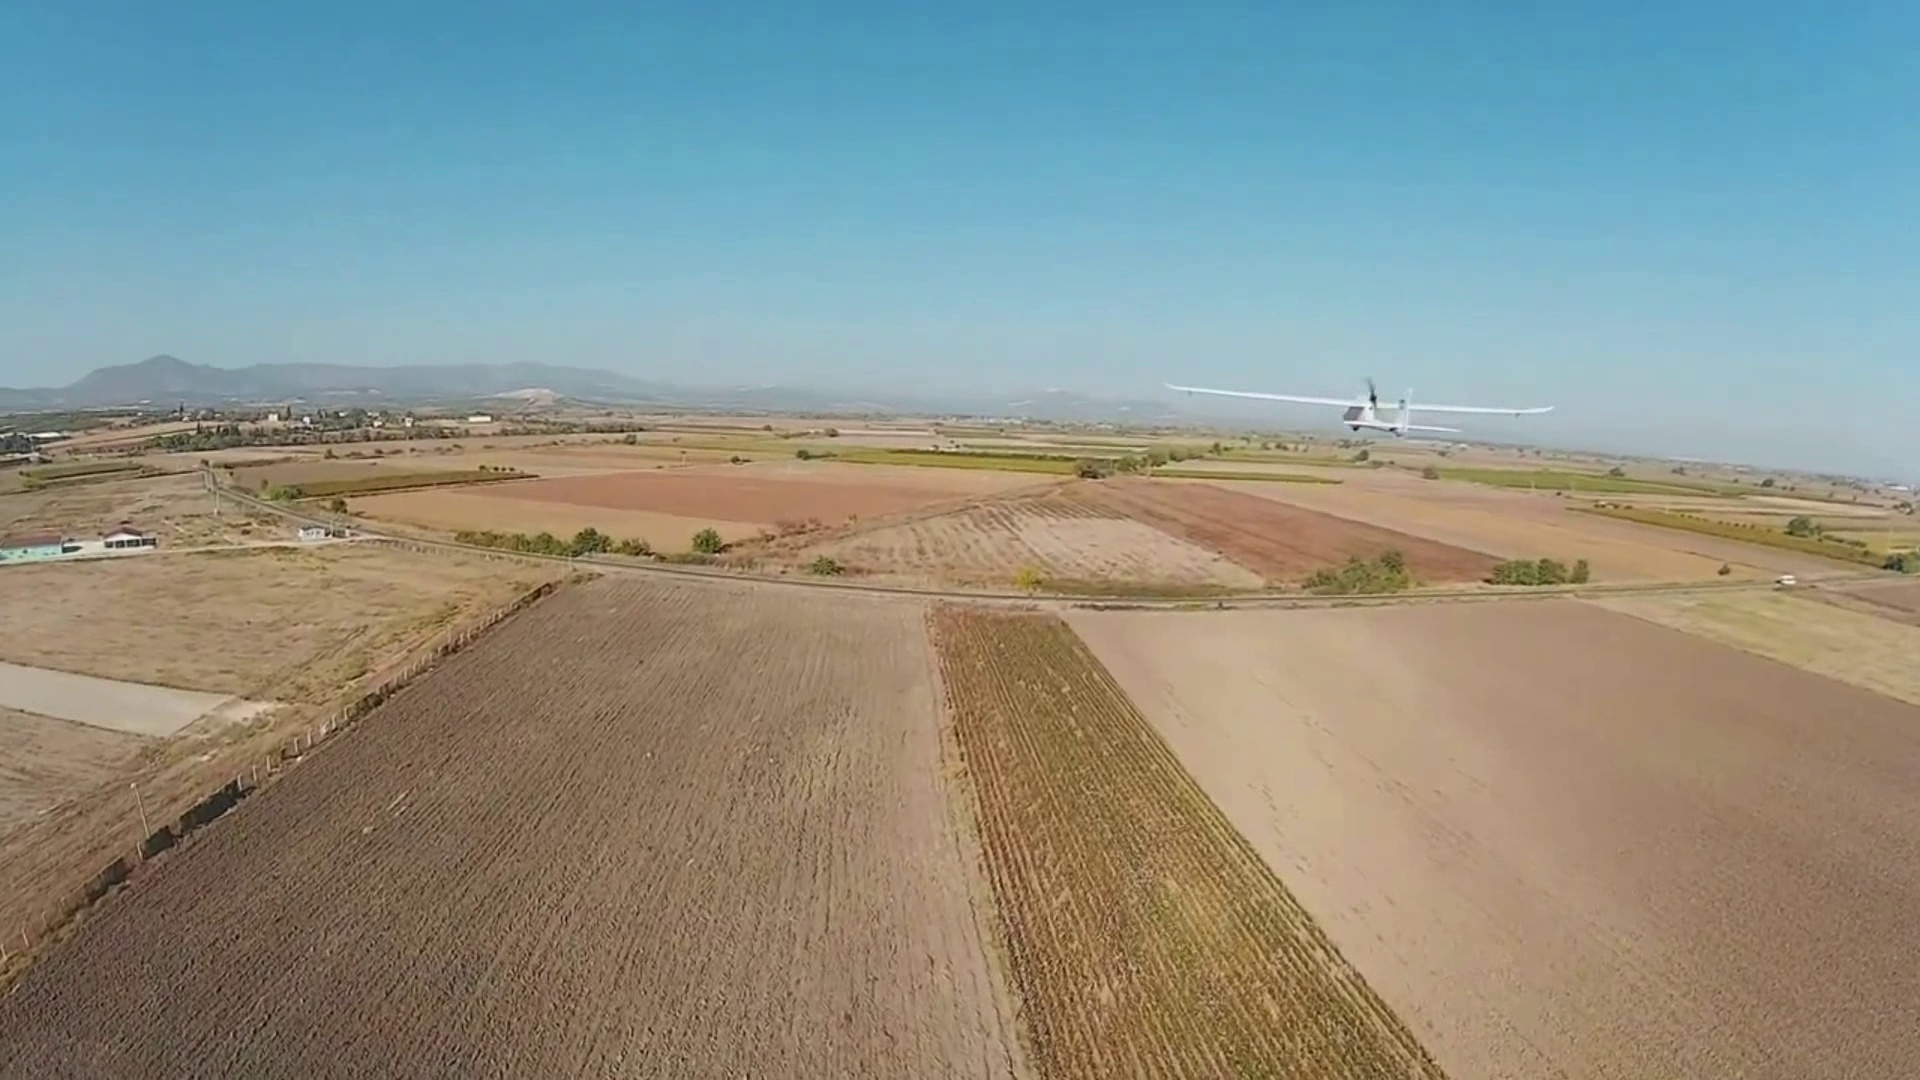airplane: (1161, 370, 1554, 448)
